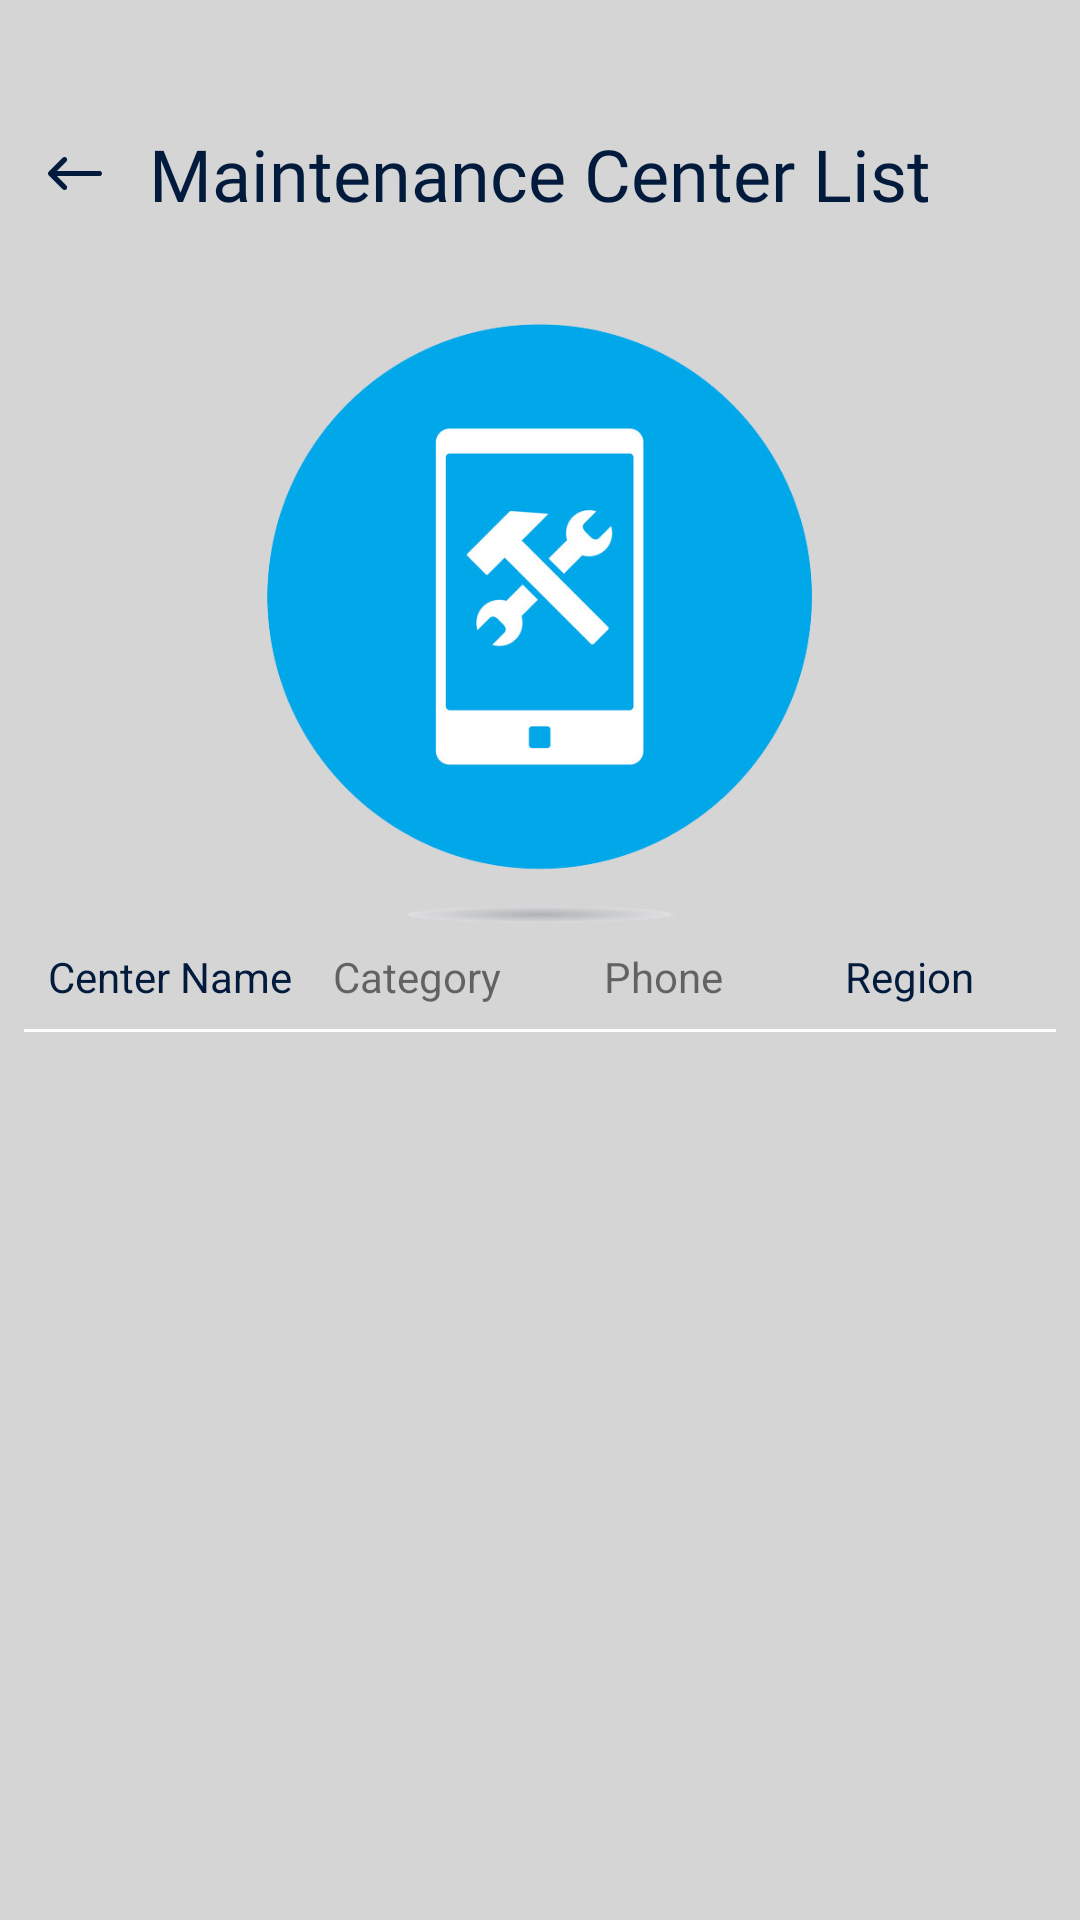

Screen size 1080*1920. Icon name, then its center in pixels as (x=x, y=y):
back: (x=75, y=173)
